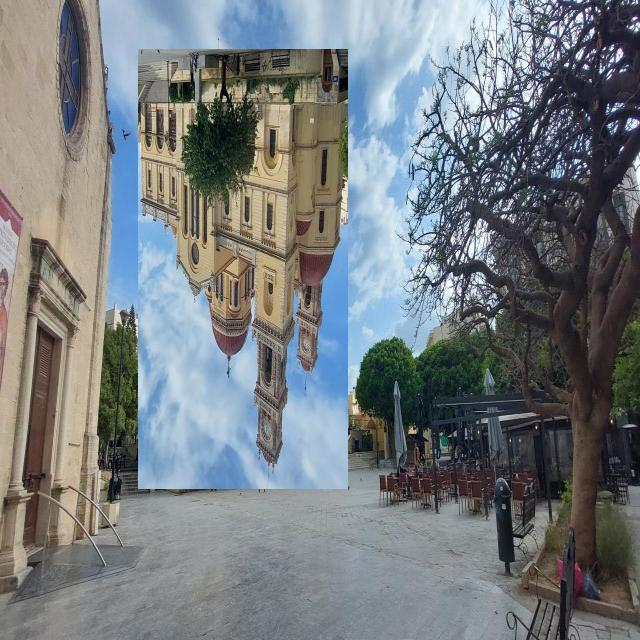Agios Minas: (140, 50, 350, 490)
